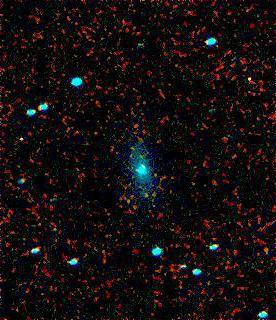star: (132, 179, 162, 209)
